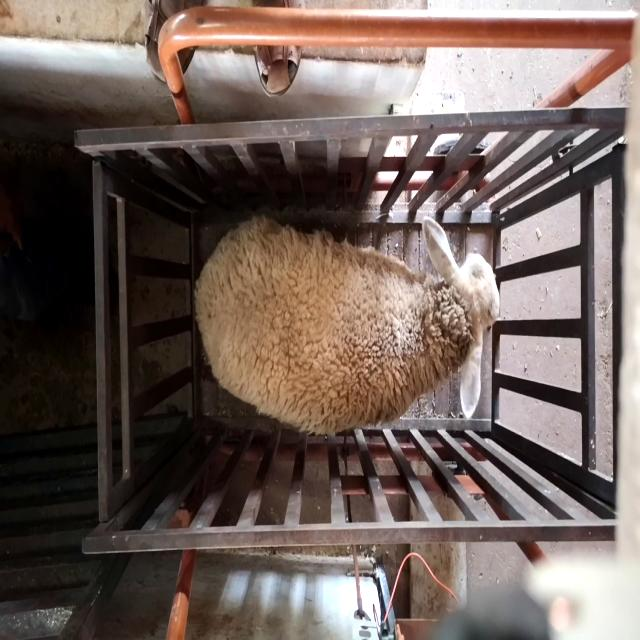sheep: (194, 216, 501, 435)
